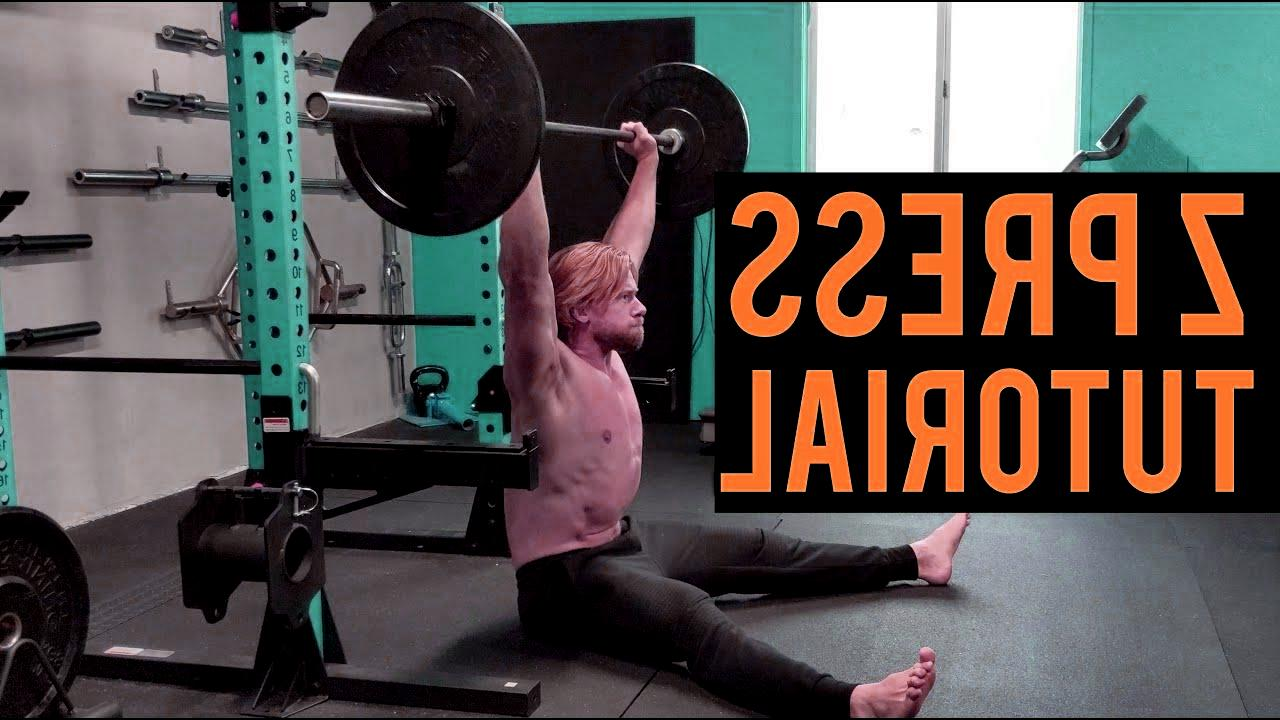Barbell: (300, 82, 339, 124)
